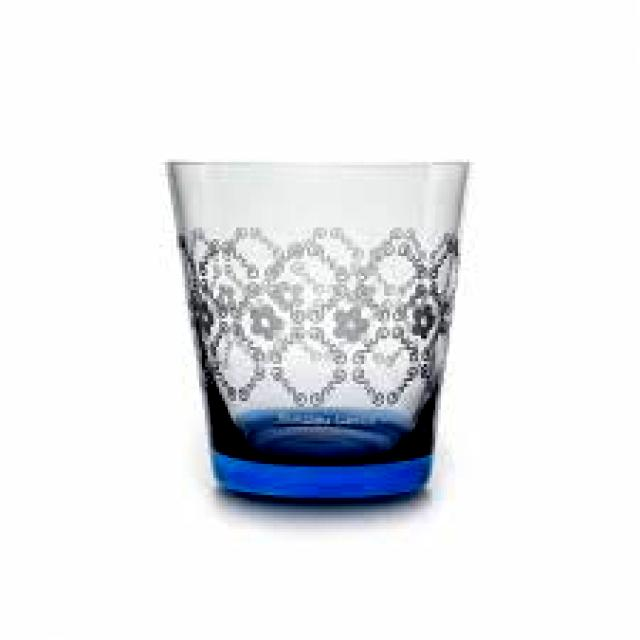Glass: (163, 154, 473, 504)
